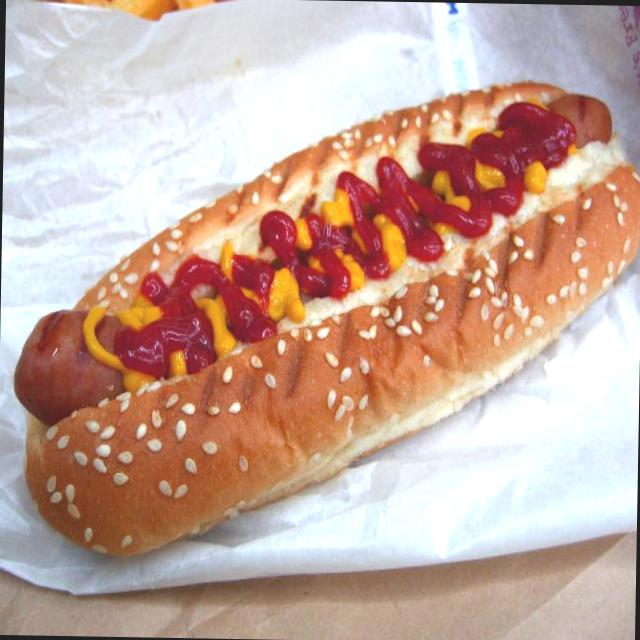Hot Dog: (7, 37, 640, 573)
